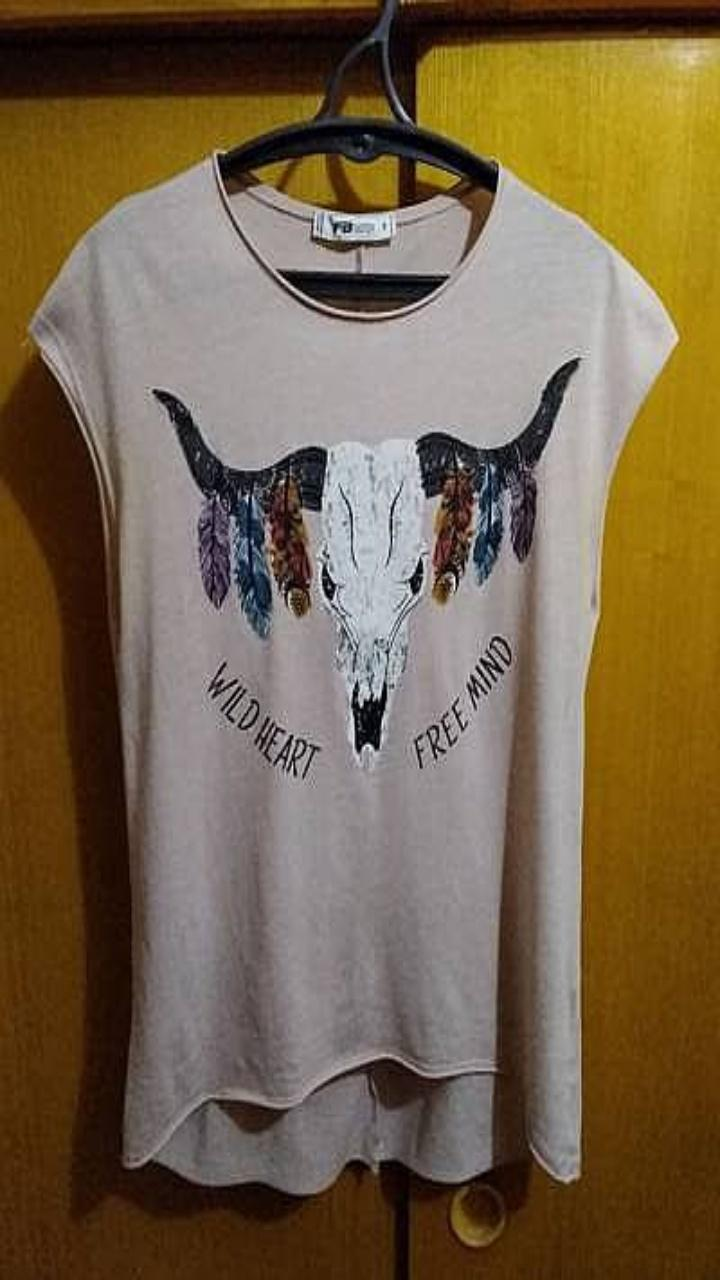T-Shirt: (29, 149, 677, 1193)
